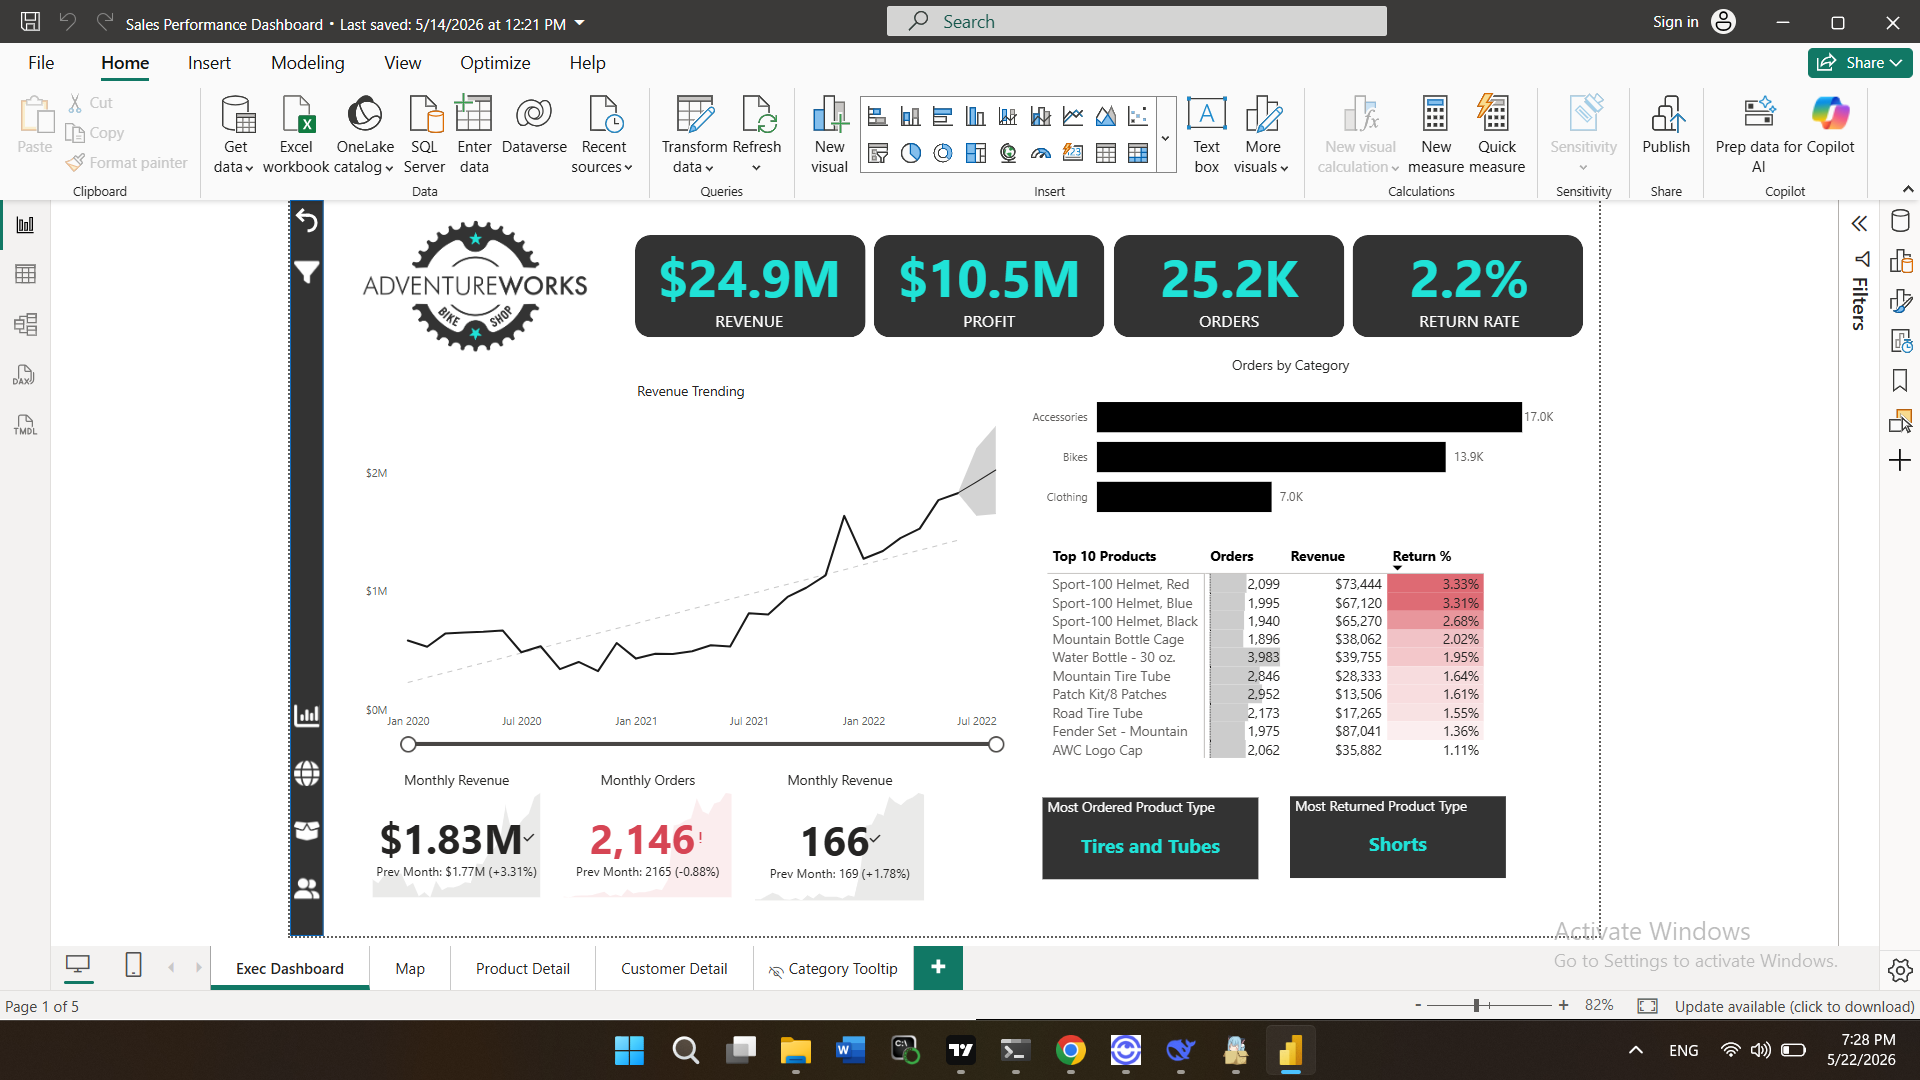

This screenshot's page, from the dashboard's own definition file:
{"tool":"powerbi","page":{"name":"Exec Dashboard","canvas":[1280,720],"ordinal":0},"visuals":[{"type":"image","title":"AW Logo","box":[41.1,17.1,280,134.3],"z":0},{"type":"card","fields":{"Values":["Measures Table.Total Revenue"]},"box":[337.4,34.3,224,100.2],"z":0,"group":"g2"},{"type":"shape","box":[337.1,34.7,225.7,100],"z":0,"group":"g1"},{"type":"group","id":"g1","title":"KPI Backgrounds","box":[337.1,34.7,927.7,100],"z":0,"group":"g3"},{"type":"actionButton","box":[0,484.2,33,40.4],"z":0,"group":"g4"},{"type":"shape","title":"Left Nav Background","box":[0,0,32.9,720],"z":1000},{"type":"group","id":"g2","title":"KPI Values","box":[337.4,34.3,928,100.2],"z":1000,"group":"g3"},{"type":"card","fields":{"Values":["Measures Table.Total Profit"]},"box":[572.1,34.3,224,100.2],"z":1000,"group":"g2"},{"type":"shape","box":[571.1,34.7,225.7,100],"z":1000,"group":"g1"},{"type":"actionButton","box":[0,540.5,33,40.4],"z":1000,"group":"g4"},{"type":"group","id":"g3","title":"KPIs","box":[337.1,34.3,927.1,100],"z":2000},{"type":"card","fields":{"Values":["Measures Table.Total Orders"]},"box":[806.7,34.3,224,100.2],"z":2000,"group":"g2"},{"type":"shape","box":[805.1,34.7,225.7,100],"z":2000,"group":"g1"},{"type":"actionButton","box":[0,596.7,33,40.4],"z":2000,"group":"g4"},{"type":"card","fields":{"Values":["Measures Table.Return Rate"]},"box":[1041.4,34.3,224,100.2],"z":3000,"group":"g2"},{"type":"shape","box":[1039.1,34.7,225.7,100],"z":3000,"group":"g1"},{"type":"lineChart","title":"Revenue Trending","fields":{"Category":["Calendar Lookup.Start of Month"],"Y":["Measures Table.Total Revenue"]},"box":[68.6,177.1,647.1,365.7],"z":3000},{"type":"actionButton","box":[0,653,33,40.4],"z":3000,"group":"g4"},{"type":"kpi","title":"Monthly Revenue","fields":{"Goal":["Measures Table.Previous Month Revenue"],"Indicator":["Measures Table.Total Revenue"],"TrendLine":["Calendar Lookup.Start of Month"]},"box":[75.7,557.1,174.3,130],"z":4000},{"type":"kpi","title":"Monthly Orders","fields":{"Goal":["Measures Table.Previous Month Orders"],"Indicator":["Measures Table.Total Orders"],"TrendLine":["Calendar Lookup.Start of Month"]},"box":[262.9,557.1,174.3,130],"z":5000},{"type":"kpi","title":"Monthly Revenue","fields":{"Goal":["Measures Table.Previous Month Returns"],"Indicator":["Measures Table.Total Returns"],"TrendLine":["Calendar Lookup.Start of Month"]},"box":[450,557.1,175.7,132.9],"z":6000},{"type":"clusteredBarChart","title":"Orders by Category","fields":{"Category":["Product Categories Lookup.CategoryName"],"Y":["Measures Table.Total Orders"]},"box":[716.6,151.6,524.6,176.1],"z":7000},{"type":"pivotTable","fields":{"Rows":["Product Lookup.ProductName"],"Values":["Measures Table.Total Orders","Measures Table.Total Revenue","Measures Table.Return Rate"]},"box":[736.1,333.8,505,222.6],"z":8000},{"type":"card","title":"Most Ordered Product Type","fields":{"Values":["Min(Product Subcategories Lookup.SubcategoryName)"]},"box":[735.7,584.3,211.4,80],"z":9000},{"type":"card","title":"Most Returned Product Type","fields":{"Values":["Min(Product Subcategories Lookup.SubcategoryName)"]},"box":[978.6,582.9,211.4,80],"z":10000},{"type":"actionButton","box":[0,0,32.9,40],"z":11000},{"type":"group","id":"g4","title":"Navigation Buttons","box":[0,484.2,33,209.1],"z":12000},{"type":"actionButton","box":[0,50.1,33,40.4],"z":13000}]}

Visuals, with their boxes on the page's 1280x720 design canvas (x1, y1, x2, y2). These are canvas units, not pixel positions in the 1920x1080 screenshot, which may show the page scaled, cropped or inside an application window:
"AW Logo" image: [41, 17, 321, 151]
card - Measures Table.Total Revenue: [337, 34, 561, 134]
shape: [337, 35, 563, 135]
"KPI Backgrounds" group: [337, 35, 1265, 135]
actionButton: [0, 484, 33, 525]
"Left Nav Background" shape: [0, 0, 33, 720]
"KPI Values" group: [337, 34, 1265, 134]
card - Measures Table.Total Profit: [572, 34, 796, 134]
shape: [571, 35, 797, 135]
actionButton: [0, 540, 33, 581]
"KPIs" group: [337, 34, 1264, 134]
card - Measures Table.Total Orders: [807, 34, 1031, 134]
shape: [805, 35, 1031, 135]
actionButton: [0, 597, 33, 637]
card - Measures Table.Return Rate: [1041, 34, 1265, 134]
shape: [1039, 35, 1265, 135]
"Revenue Trending" lineChart: [69, 177, 716, 543]
actionButton: [0, 653, 33, 693]
"Monthly Revenue" kpi: [76, 557, 250, 687]
"Monthly Orders" kpi: [263, 557, 437, 687]
"Monthly Revenue" kpi: [450, 557, 626, 690]
"Orders by Category" clusteredBarChart: [717, 152, 1241, 328]
pivotTable - Product Lookup.ProductName x Measures Table.Total Orders: [736, 334, 1241, 556]
"Most Ordered Product Type" card: [736, 584, 947, 664]
"Most Returned Product Type" card: [979, 583, 1190, 663]
actionButton: [0, 0, 33, 40]
"Navigation Buttons" group: [0, 484, 33, 693]
actionButton: [0, 50, 33, 90]
